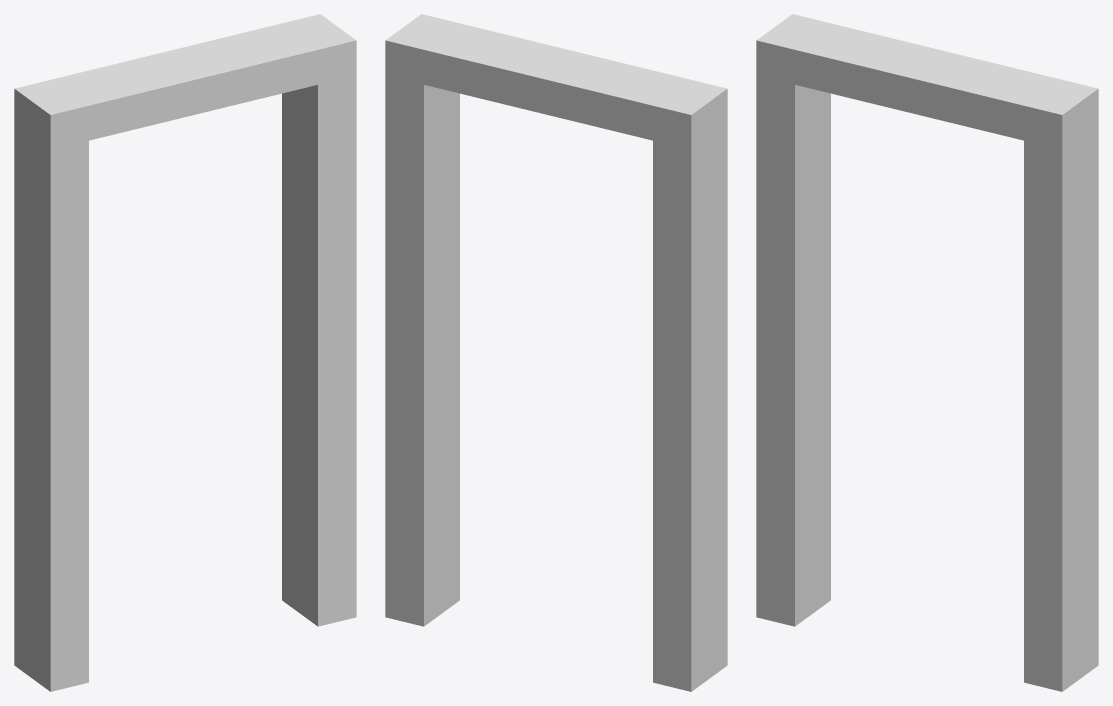
File: door_019.fbx
3 views of the same model, side by side, from view 1: azimuth 30°, elevation 25°; view 2: azimuth 150°, elevation 25°; view 3: azimuth 330°, elevation 25° (orthographic).
Parts seen in each view (by area): view 1: door_019; view 2: door_019; view 3: door_019.
Boxes of the visible parts, <box> form: door_019: <box>14,14,356,691</box>; door_019: <box>385,14,727,691</box>; door_019: <box>756,14,1098,691</box>.
Bounding box in the file's own units: 127 × 26.01 × 229.
